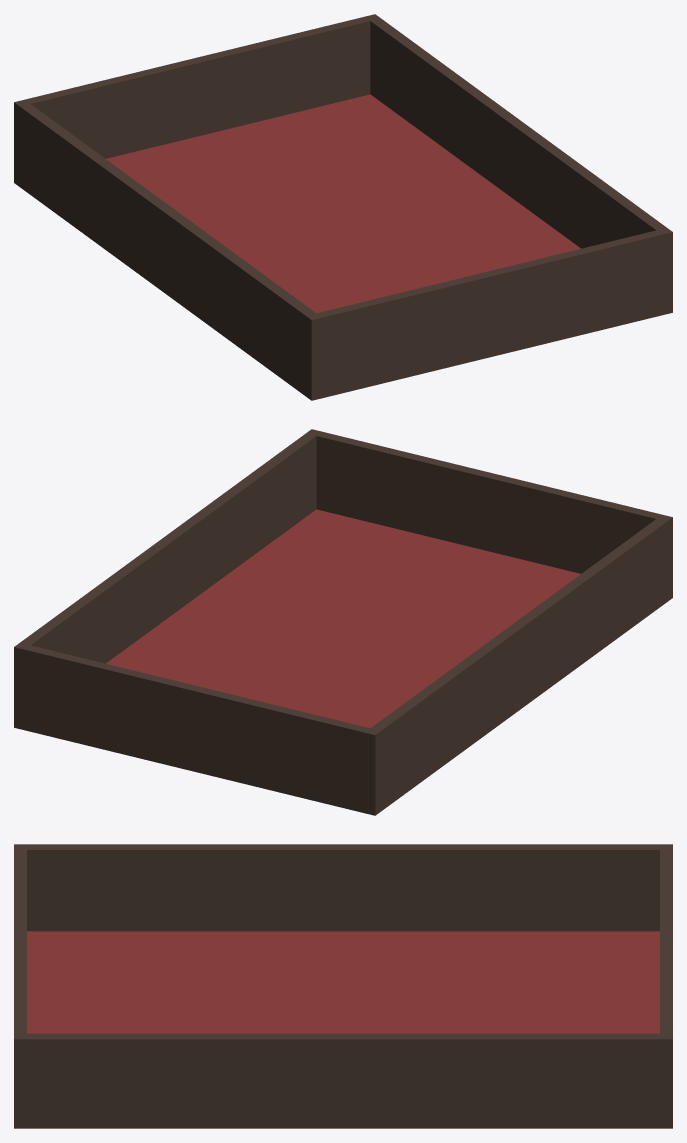
Rendered from weaponSHelf.fbx.
The picture shows the model from 3 angles, top to bottom: view 1: azimuth 30°, elevation 25°; view 2: azimuth 150°, elevation 25°; view 3: azimuth 270°, elevation 25°; orthographic projection. The views are drawn at different scales.
Visible parts, largest first — view 1: pCube4; view 2: pCube4; view 3: pCube4.
Part boxes in pixels (box(x1,y1,x2,y2)): pCube4: box(14, 14, 672, 400); pCube4: box(14, 429, 672, 815); pCube4: box(14, 844, 672, 1128).
Size of the model in its own units: 15.67 by 3.34 by 22.38.
